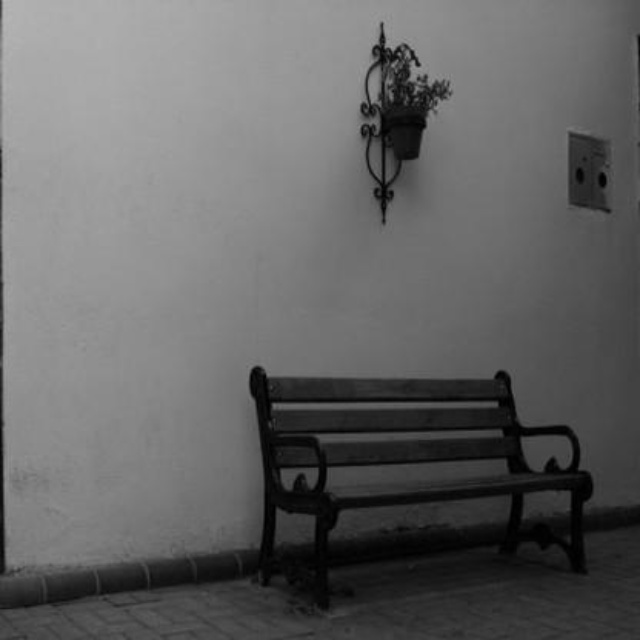obstacle: (232, 351, 615, 591)
